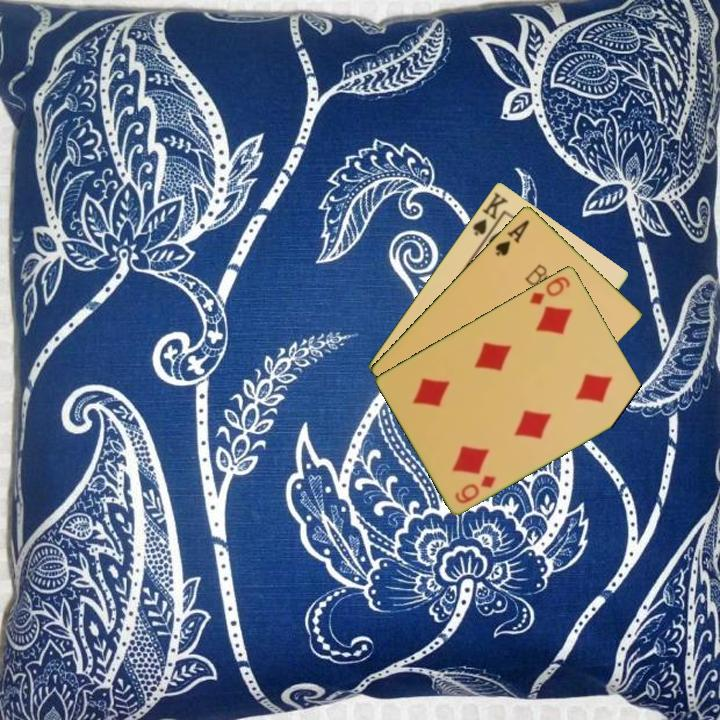6d: (451, 471, 499, 506), (526, 272, 573, 307)
As: (491, 216, 532, 259)
Ks: (469, 188, 511, 244)
